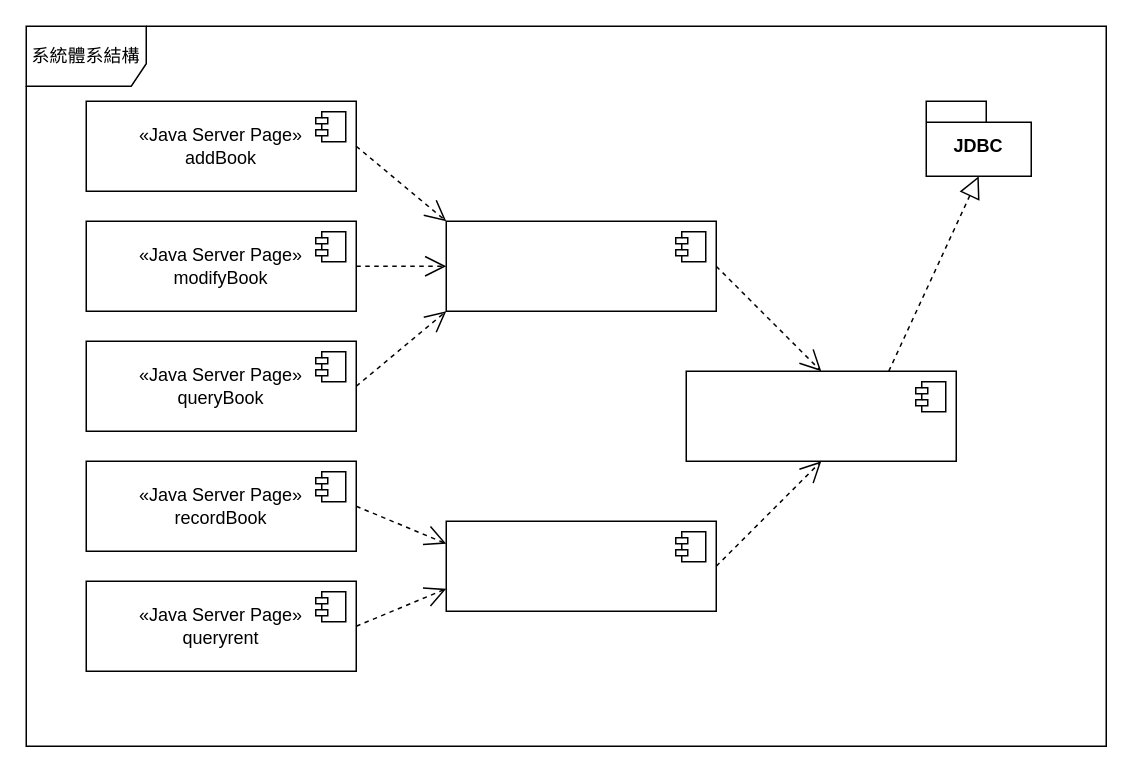
Some shapes in this 1133 by 773 pixel diagram are drawn without their labels. The shapes that lost their labels are listed below. From the top down, each one's centre as x and y in pixels, then its label:
At [580,265]: "«Java Beans» Book".
At [820,415]: "«Java Beans» DBManager".
At [580,565]: "«Java Beans» Rent".
